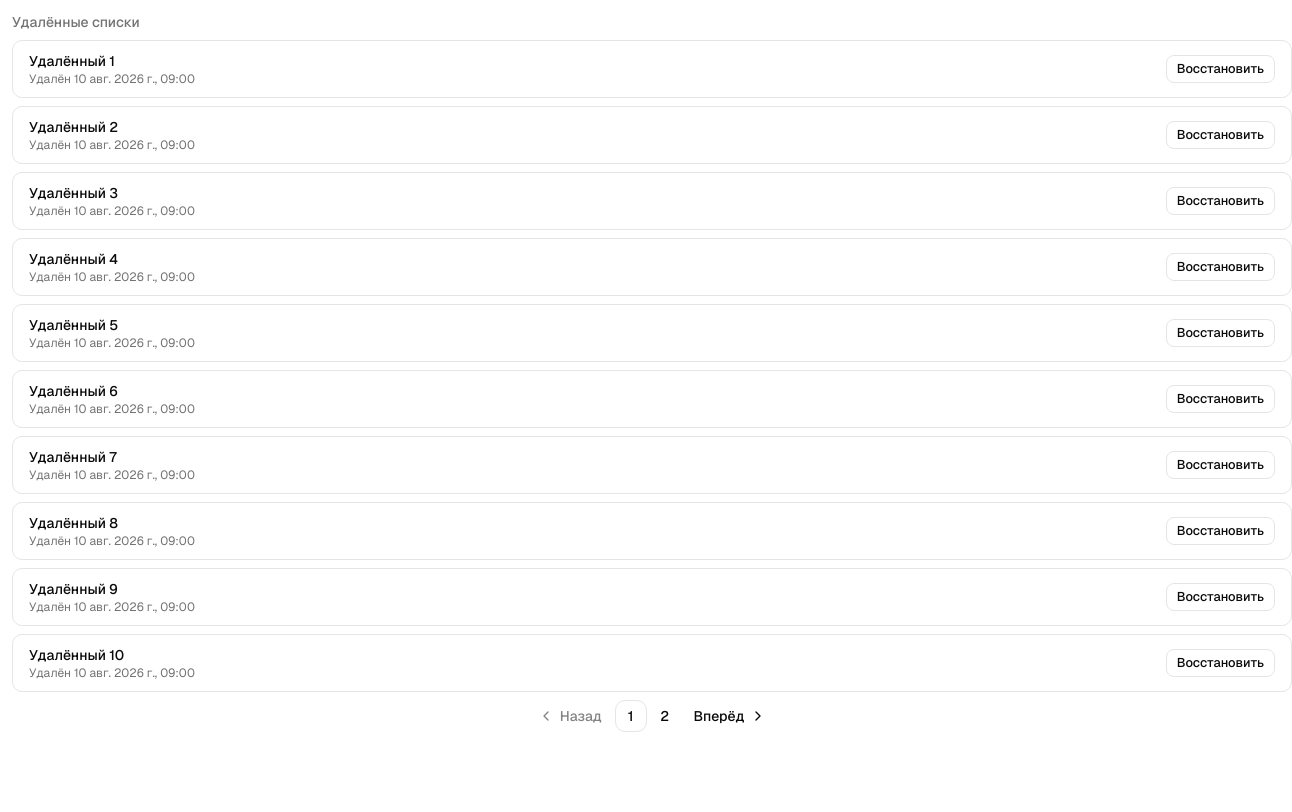
it: DeletedListsSection › paginates when there are more deleted lists than one page
Check: the text "Удалённый 1" is shown, box [29,52,115,70]
Check: the text "Удалённый 11" is not shown
Click the button with aria-label "Следующая страница" at (728, 716), box [683,700,773,732]
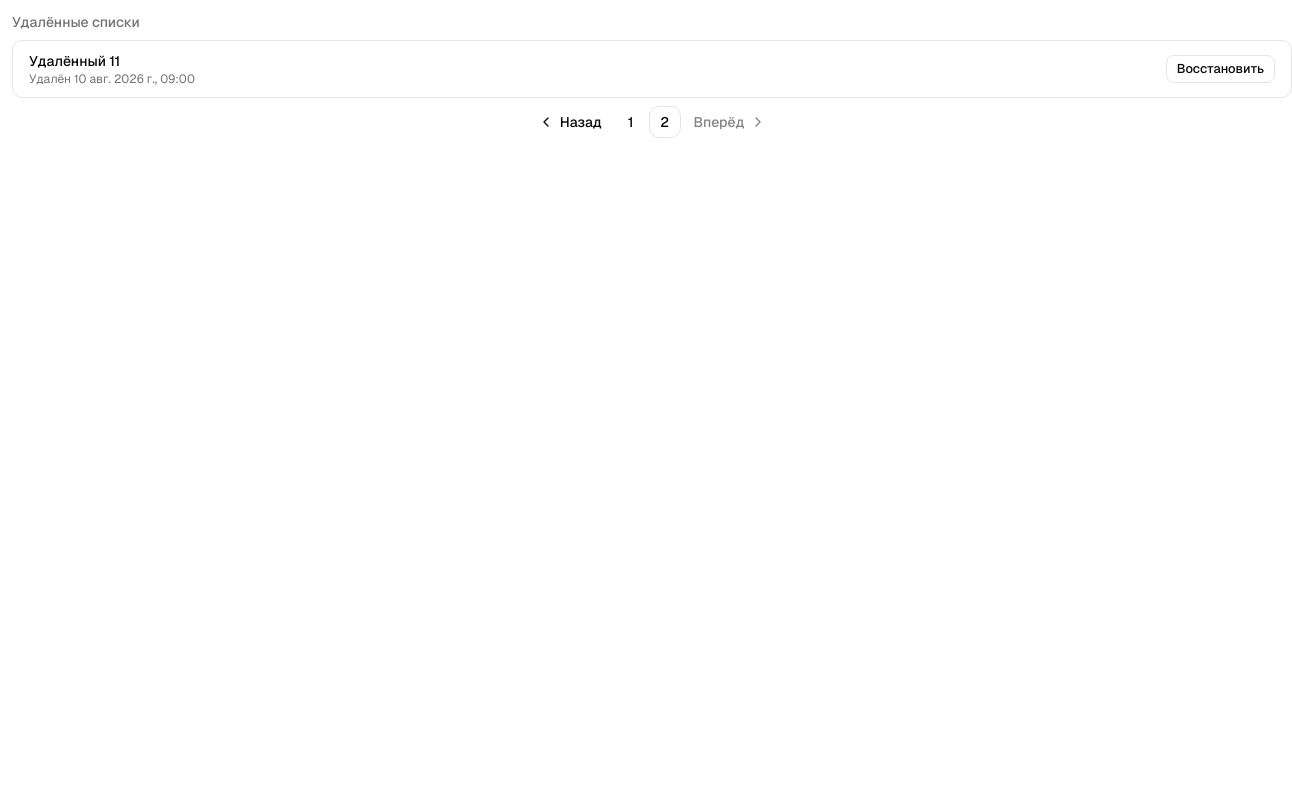
Check: the text "Удалённый 11" is shown, box [29,52,120,70]
